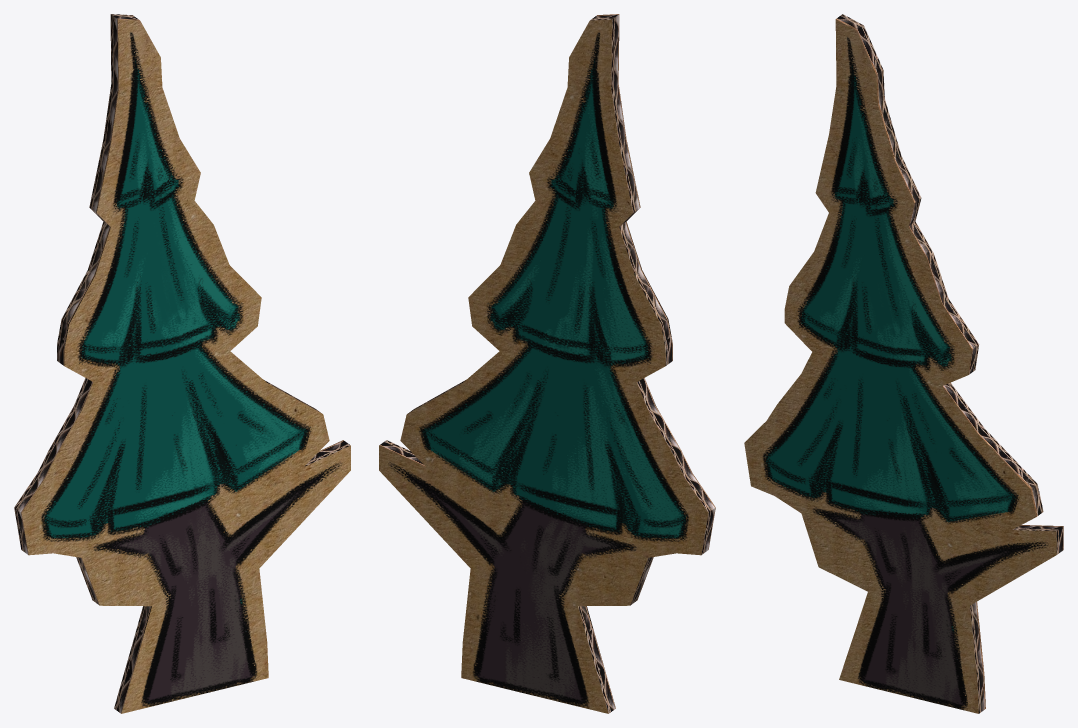
Rendered from Tree02.fbx.
3 views of the same model, side by side, from view 1: azimuth 30°, elevation 25°; view 2: azimuth 150°, elevation 25°; view 3: azimuth 330°, elevation 25° (orthographic). The views are drawn at different scales.
Visible parts, largest first — view 1: Plane; view 2: Plane; view 3: Plane.
Part boxes in pixels (<box>): Plane: <box>14,14,350,713</box>; Plane: <box>379,14,715,713</box>; Plane: <box>744,14,1063,713</box>.
Bounding box in the file's own units: 206 × 417 × 8.07.
